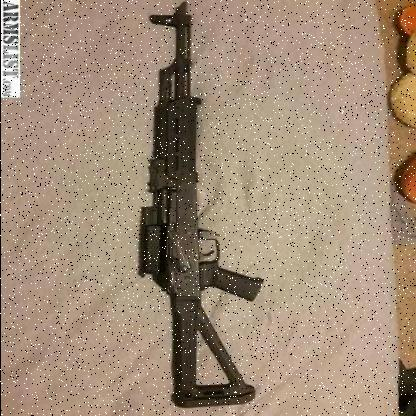rifle: (102, 0, 296, 413)
